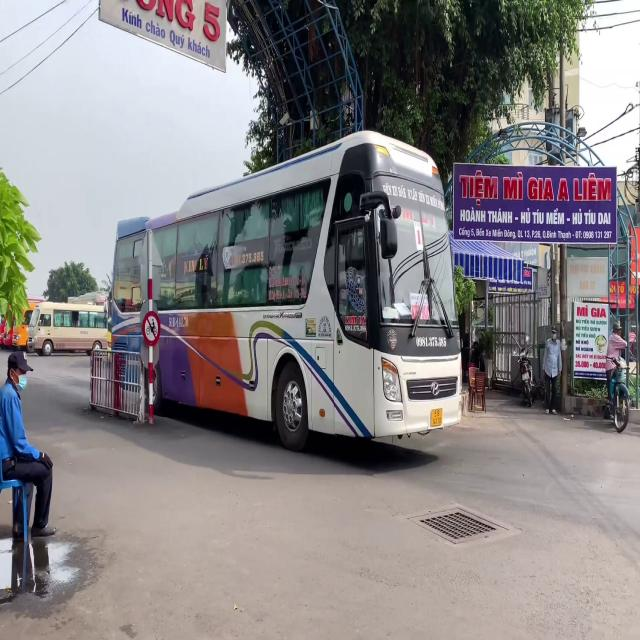bien_vang: (431, 408, 443, 425)
